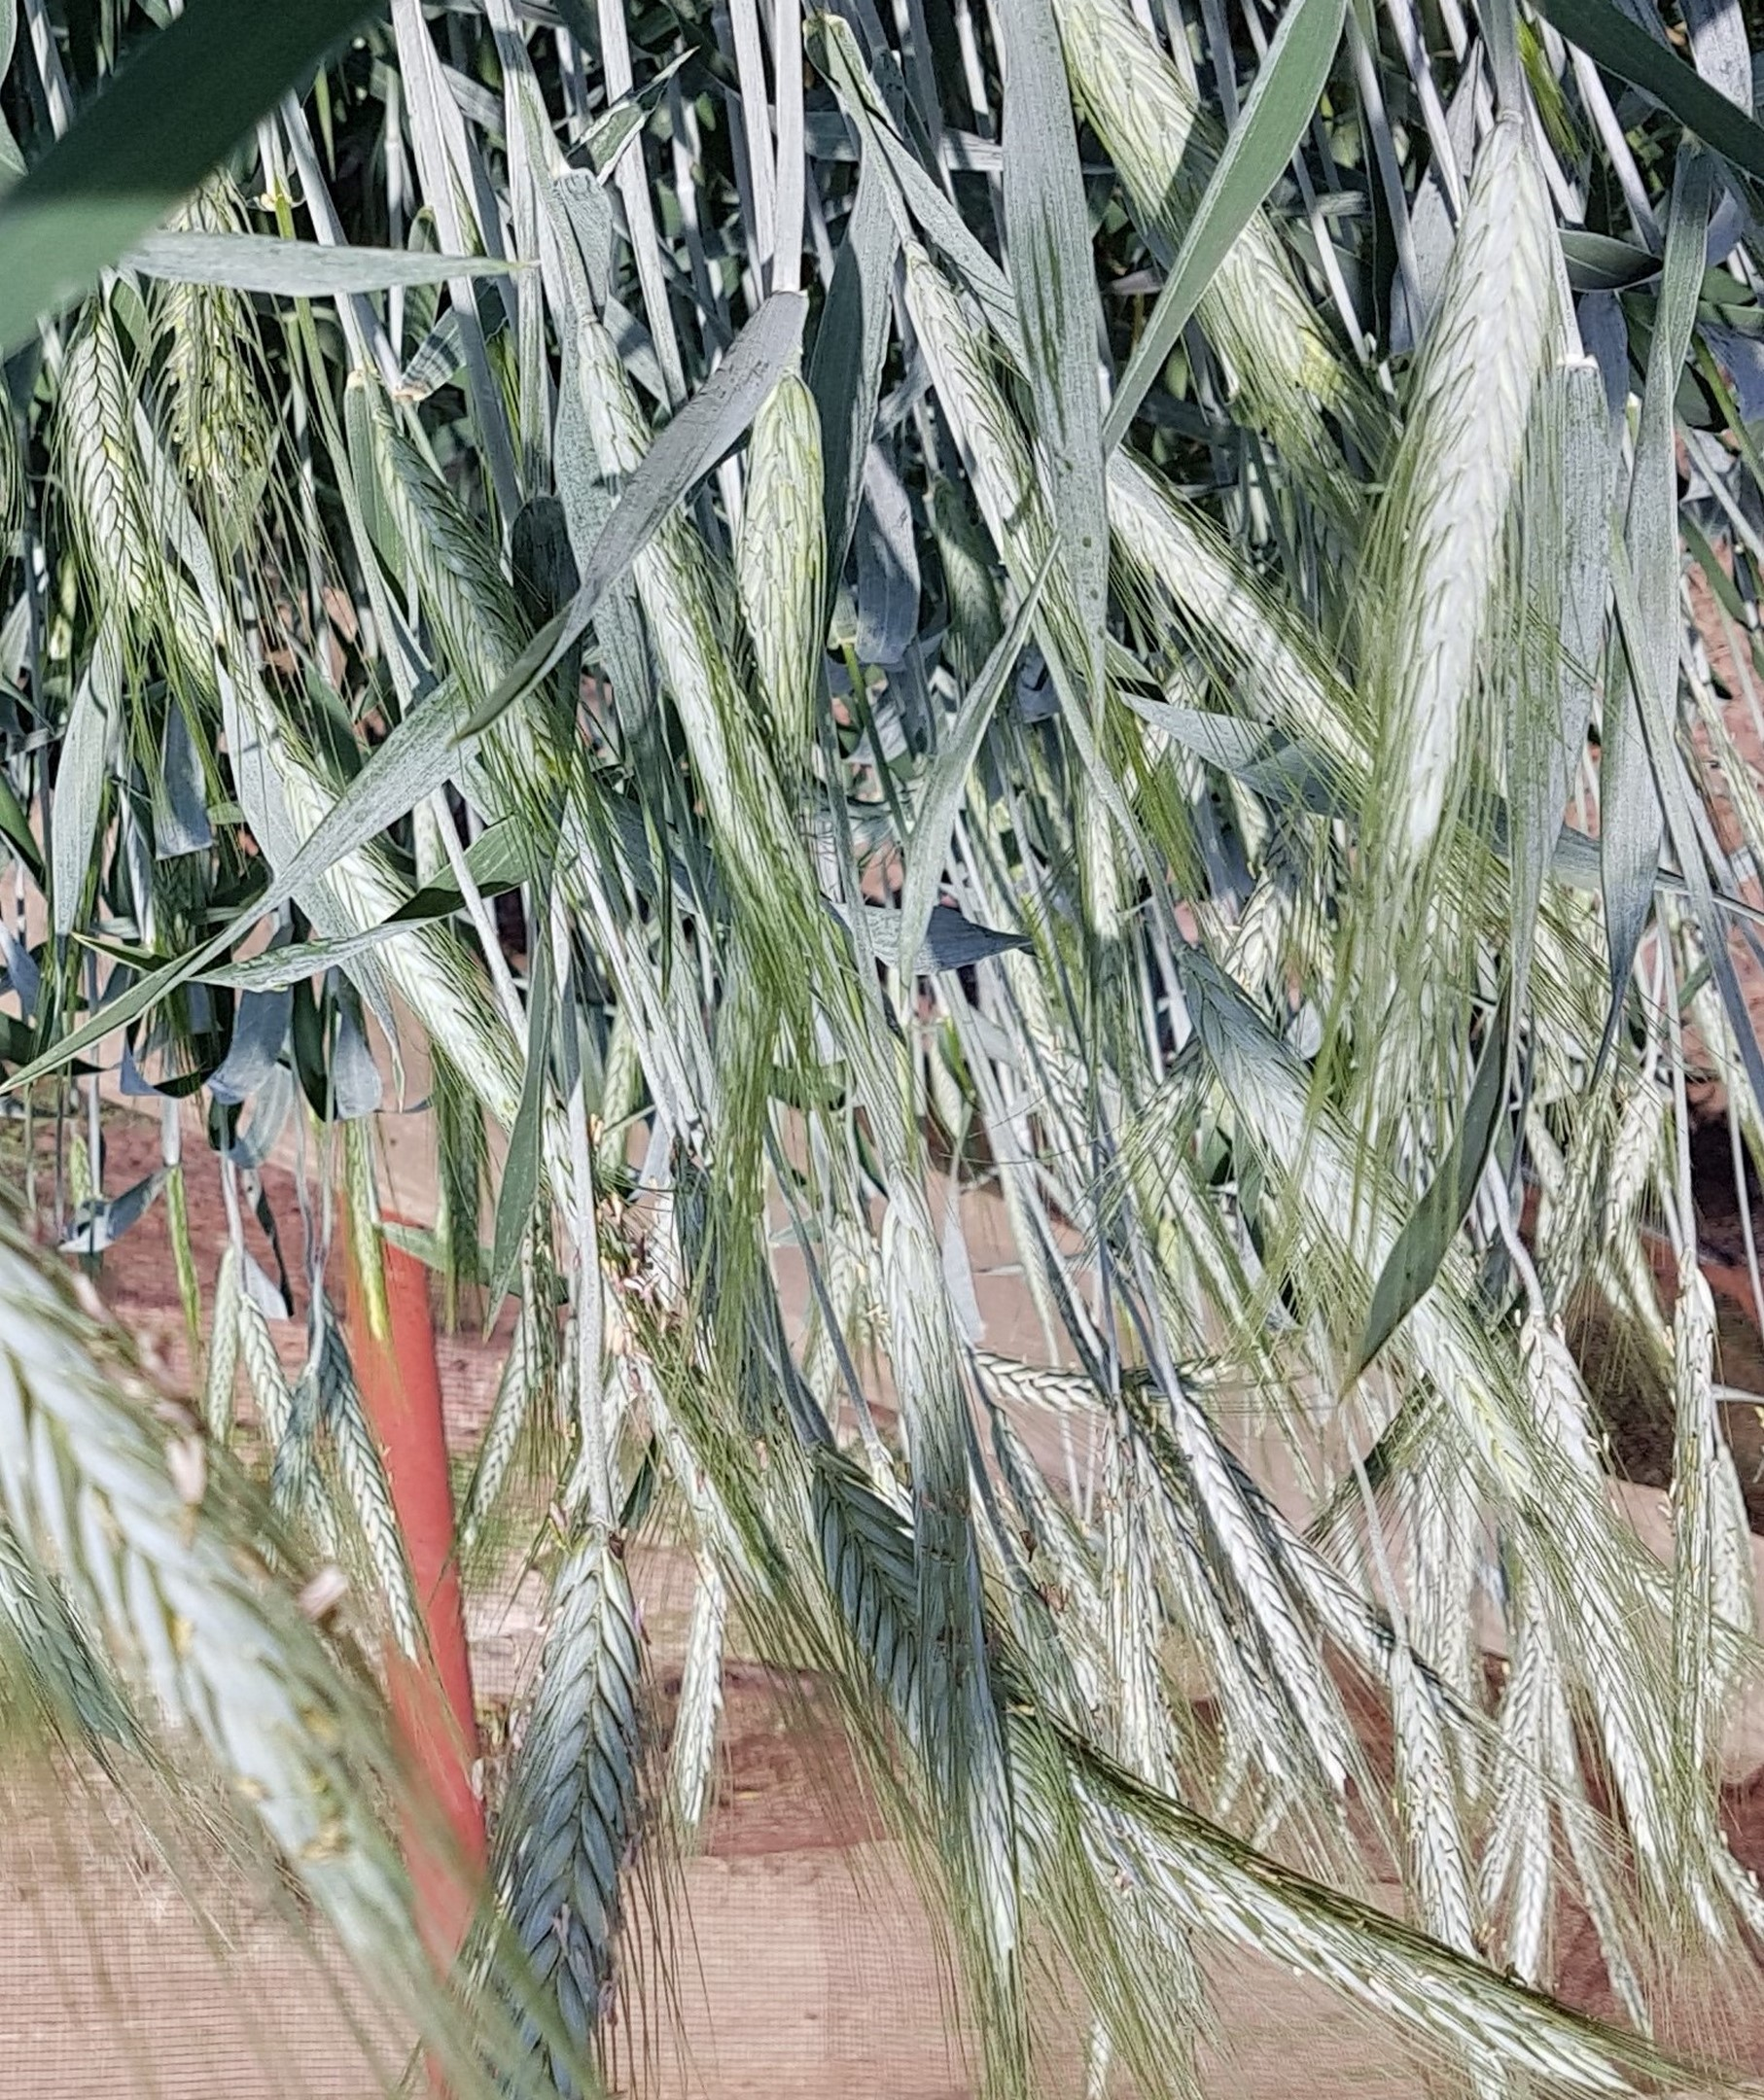Healthy Wheat: (500, 1501, 682, 2088), (360, 409, 612, 780), (49, 322, 191, 641)
